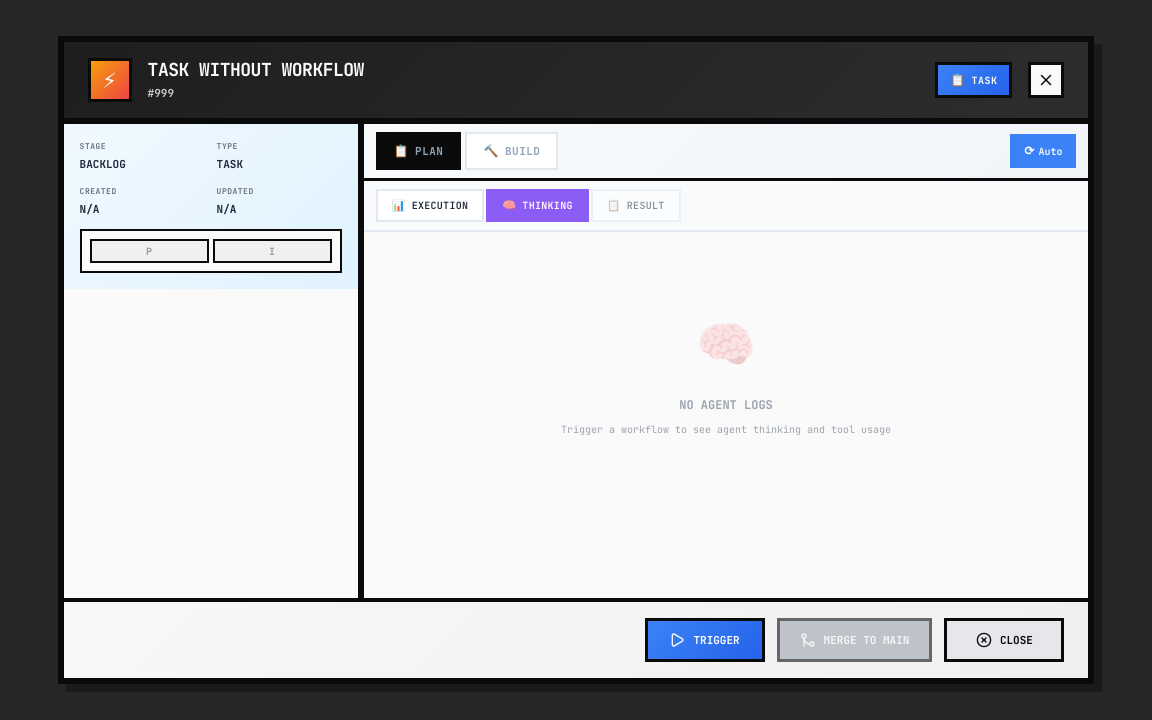
Test: CardExpandModal Component › Content Type Tabs (Two-Level Navigation) › should show empty state for execution logs when no workflow exists
// Click execution tab
Click the text "EXECUTION": click(440, 205) [412,198,468,213]
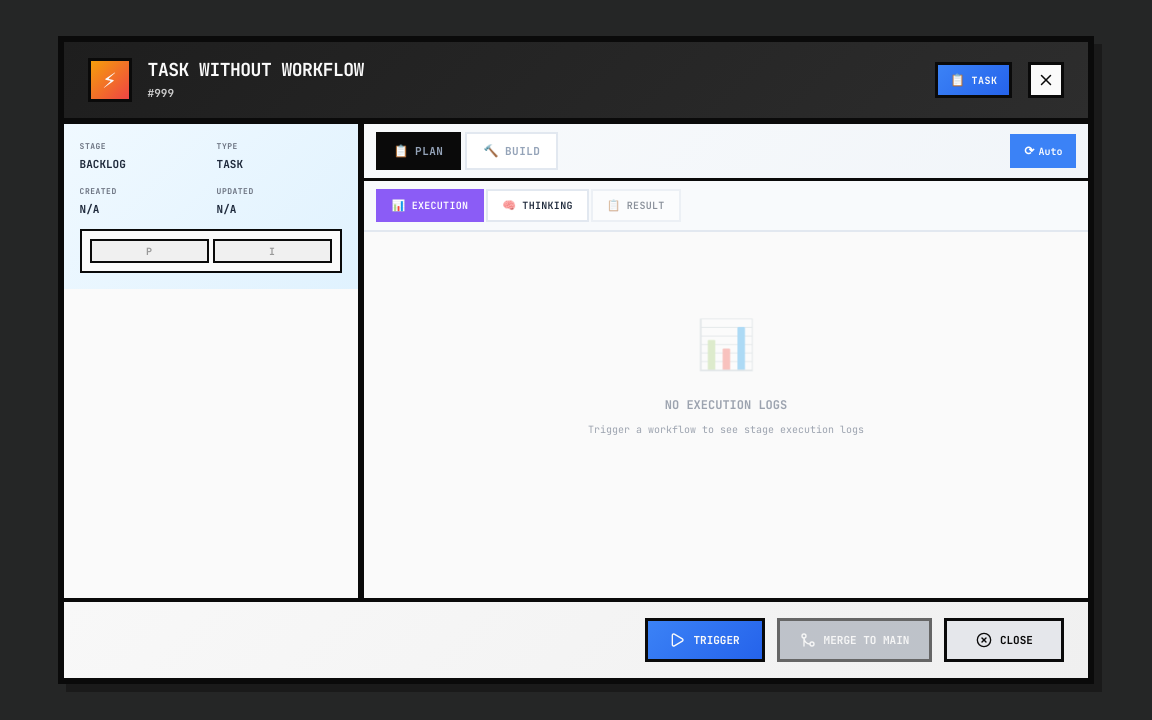
Now the text "No Execution Logs" is shown, box [665,396,787,414]
